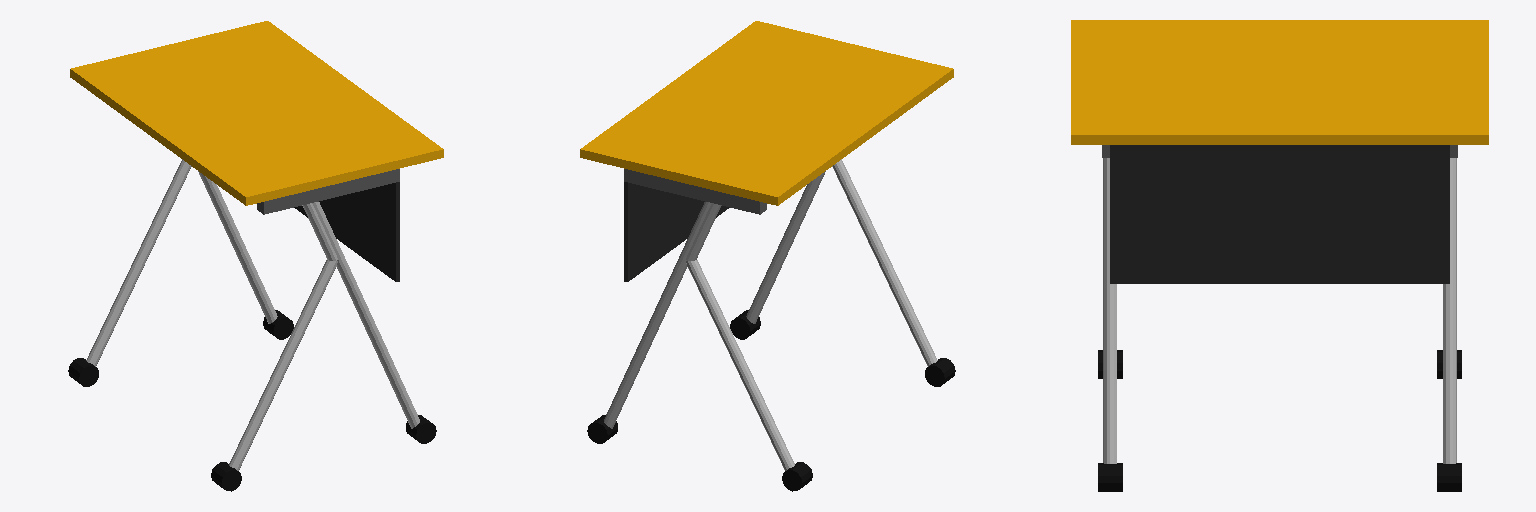
robot.urdf — foldable-desk:
<?xml version="1.0"?>
<robot name="foldable-desk"
       xmlns:xi="http://www.w3.org/2001/XInclude">
  <gazebo>
    <static>false</static>
  </gazebo>
  <link name="nil_link">
    <visual>
      <origin xyz="0 0 0" rpy="0 -0 0"/>
      <geometry>
        <mesh filename="model://foldable-desk/meshes/nil_link_mesh.dae" scale="1 1 1" />
      </geometry>
    </visual>
    <collision>
      <origin xyz="0 0 0" rpy="0 -0 0"/>
      <geometry>
        <mesh filename="model://foldable-desk/meshes/nil_link_mesh.dae" scale="1 1 1" />
      </geometry>
    </collision>
    <inertial>
      <mass value="0.001" />
      <origin xyz="0 0 0" rpy="0 -0 0"/>
      <inertia ixx="1e-03" ixy="0" ixz="0" iyy="1e-03" iyz="0" izz="1e-03"/>
    </inertial>
  </link>
  <gazebo reference="nil_link">
    <mu1>0.9</mu1>
    <mu2>0.9</mu2>
  </gazebo>
</robot>

--- Facts derived from the render (not from the file) ---
Views: 3 orthographic renders of the robot side by side, from view 1: azimuth 30°, elevation 25°; view 2: azimuth 150°, elevation 25°; view 3: azimuth 270°, elevation 25°.
Robot: foldable-desk — 1 links, 0 joints (none); root link nil_link; default pose: every joint at zero.
Visible links, largest first — view 1: nil_link; view 2: nil_link; view 3: nil_link.
Boxes of the visible links, x1,y1,x2,y2 form: nil_link: [68, 21, 443, 491]; nil_link: [580, 21, 955, 491]; nil_link: [1071, 20, 1488, 491].
Size in the robot's own frame: 0.5225 by 0.74 by 0.7 metres.
1 mesh visuals loaded from 1 distinct referenced files (1 Collada DAE).